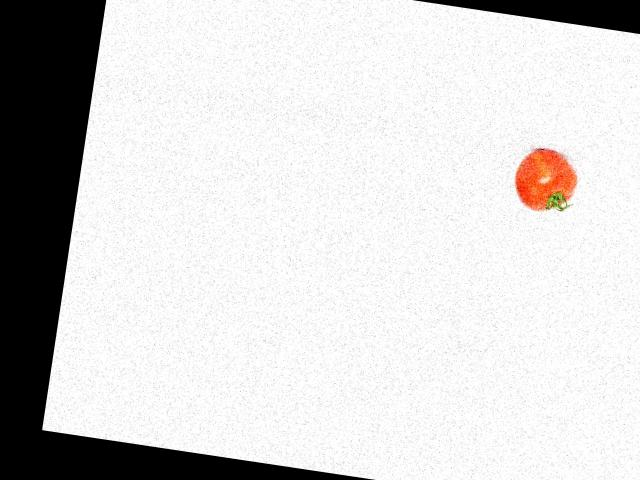tomato: (510, 145, 581, 217)
